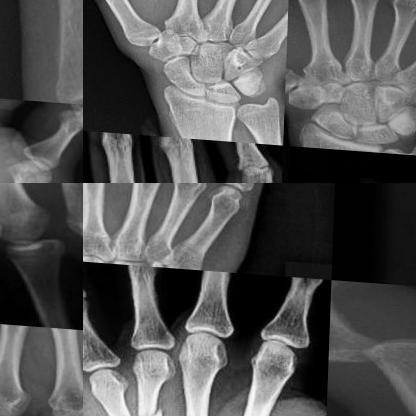fracture: (94, 227, 130, 259), (134, 392, 179, 415), (92, 396, 143, 415)
